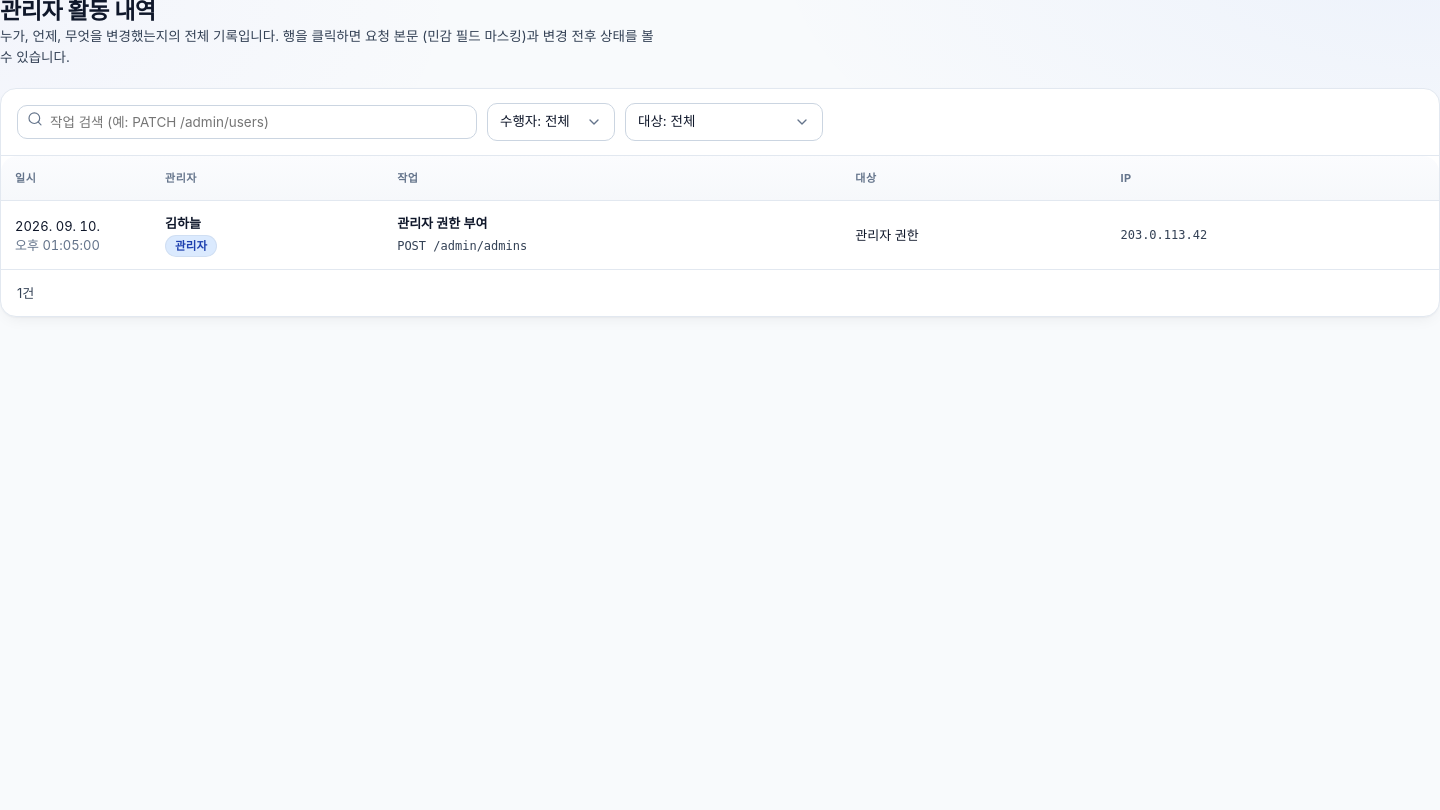
the detail drawer › labels the field IP, since the user agent is not exposed
The image size is (1440, 810).
Click the text "관리자 권한 부여" at (442, 223), box [397, 215, 488, 231]
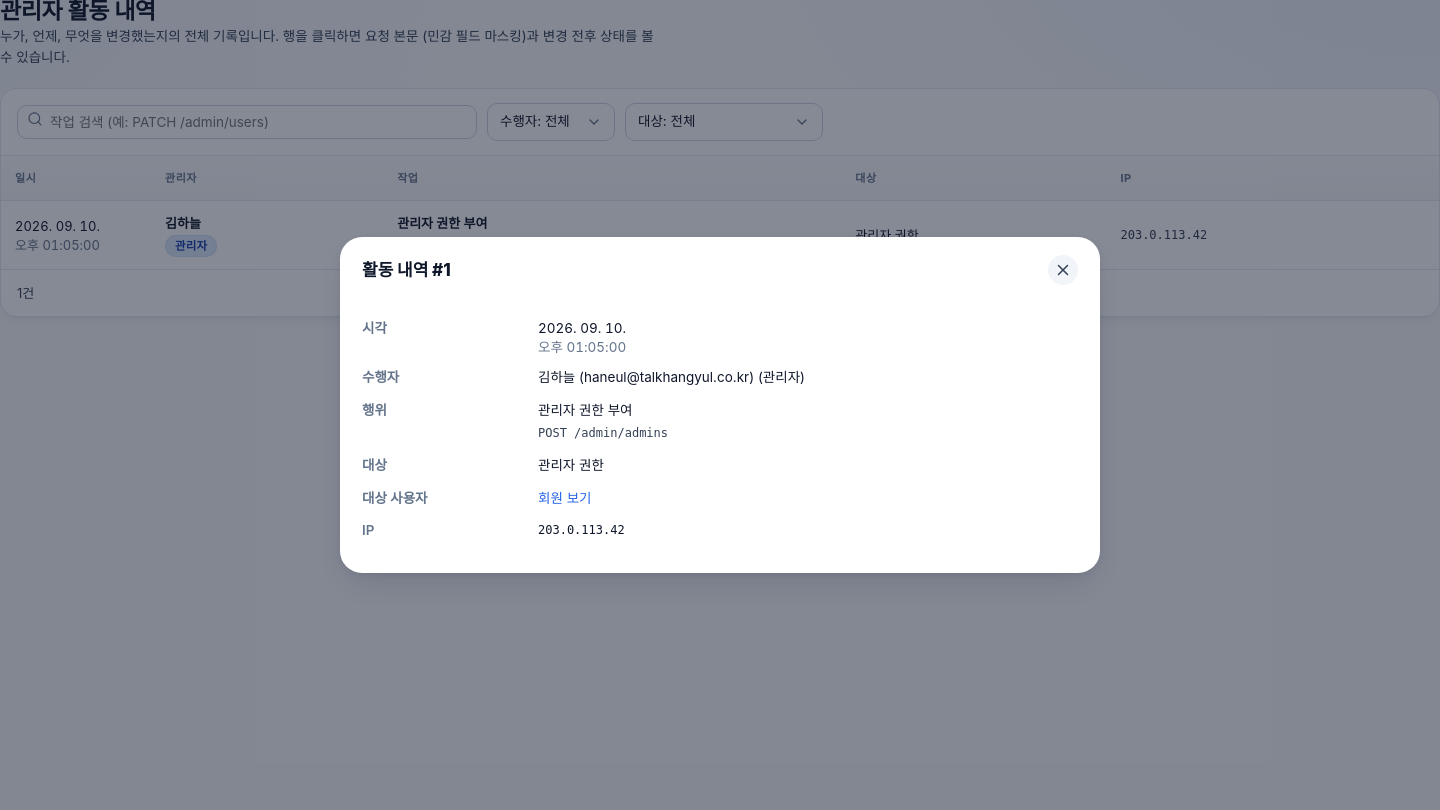
Expected: the text "대상 사용자" is shown, [362, 490, 428, 506]
